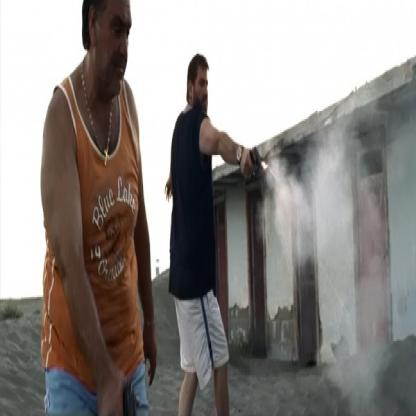Gun: (244, 142, 271, 176)
